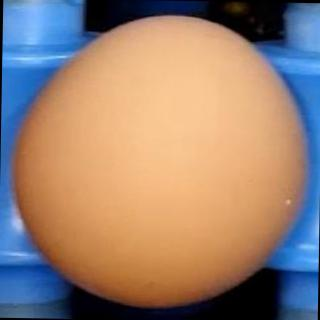Telur: (13, 14, 320, 311)
